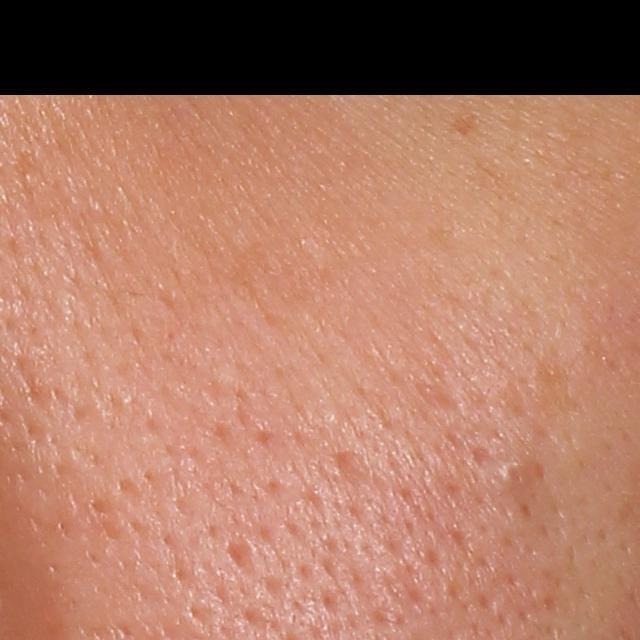atrophic_scar: (328, 445, 376, 496), (220, 530, 255, 578)
comedo: (495, 450, 533, 494)
melasma: (448, 109, 483, 139)
